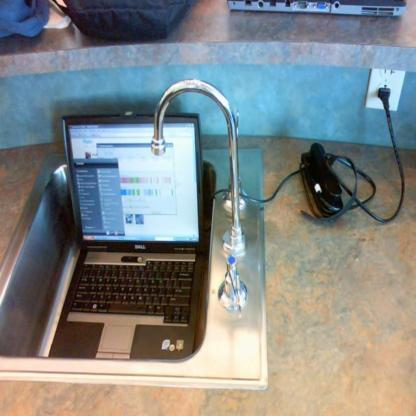board: (36, 106, 220, 370)
